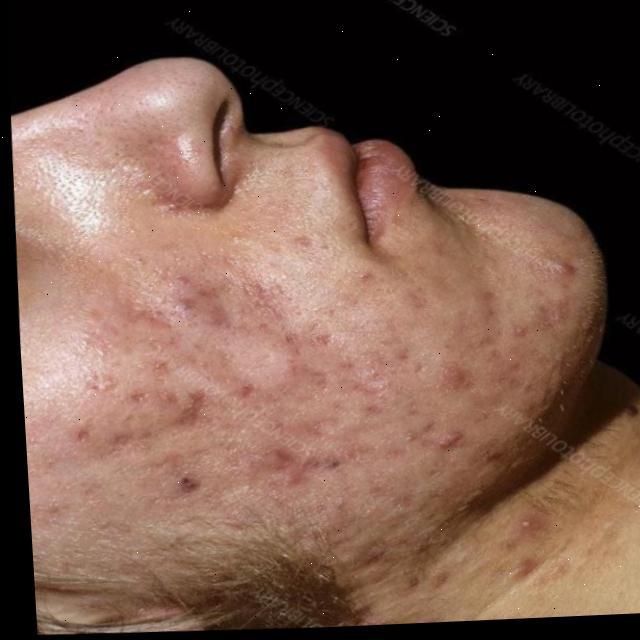Acne: (31, 244, 496, 570)
